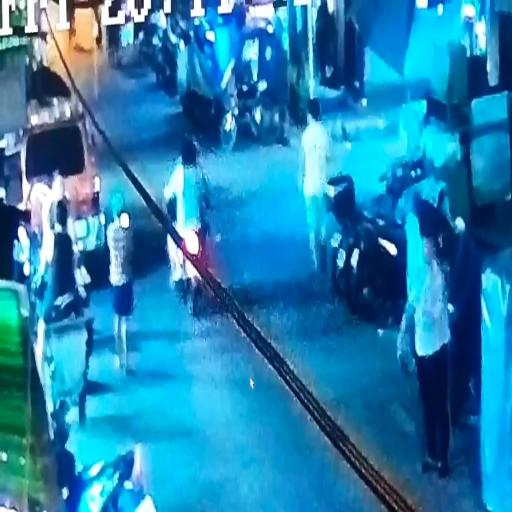Car: (22, 93, 115, 275)
Motor: (322, 148, 438, 335), (164, 117, 229, 347), (171, 6, 268, 157)
